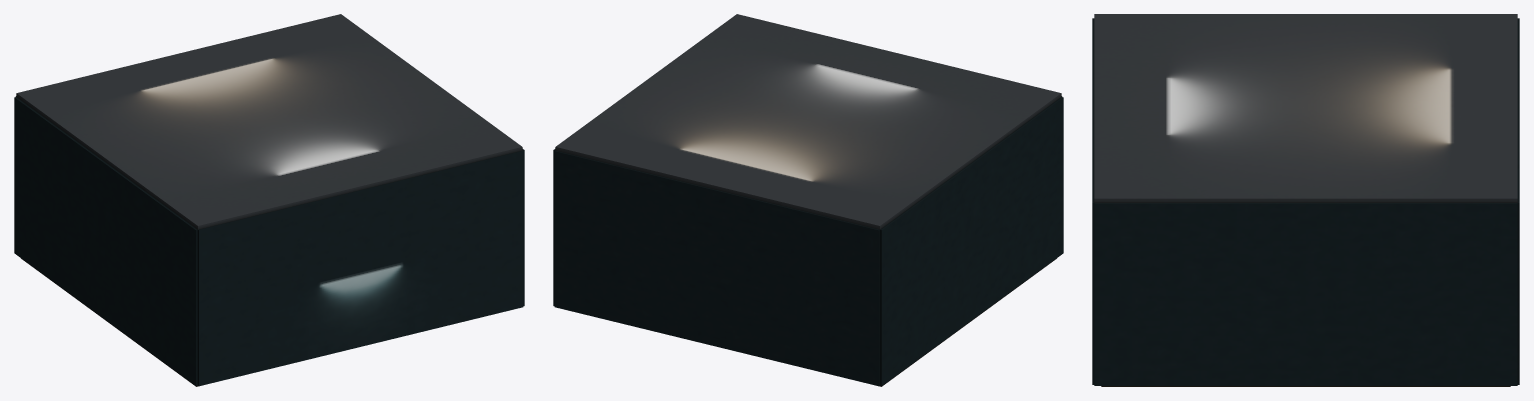
3 renders of one model, left to right at view 1: azimuth 30°, elevation 25°; view 2: azimuth 150°, elevation 25°; view 3: azimuth 270°, elevation 25°, orthographic. The views are drawn at different scales.
Parts seen in each view (by area): view 1: HobbyWorkshop / baked game mesh; view 2: HobbyWorkshop / baked game mesh; view 3: HobbyWorkshop / baked game mesh.
Part boxes in pixels (x1,y1,x2,y2): HobbyWorkshop / baked game mesh: [14, 14, 524, 386]; HobbyWorkshop / baked game mesh: [553, 14, 1063, 386]; HobbyWorkshop / baked game mesh: [1092, 14, 1519, 386].
Size of the model in its own units: 6.48 by 3.08 by 6.26.
Materials: 1 (1 with a texture image).
